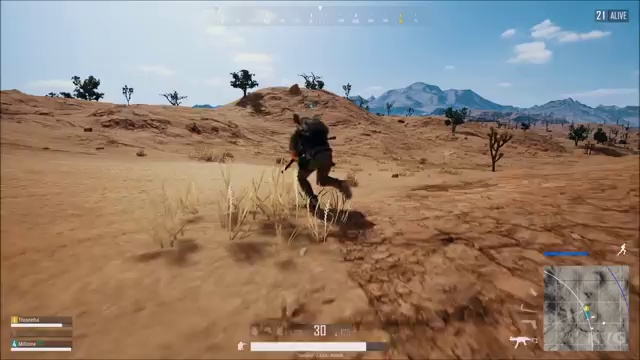Player: (268, 108, 362, 222)
